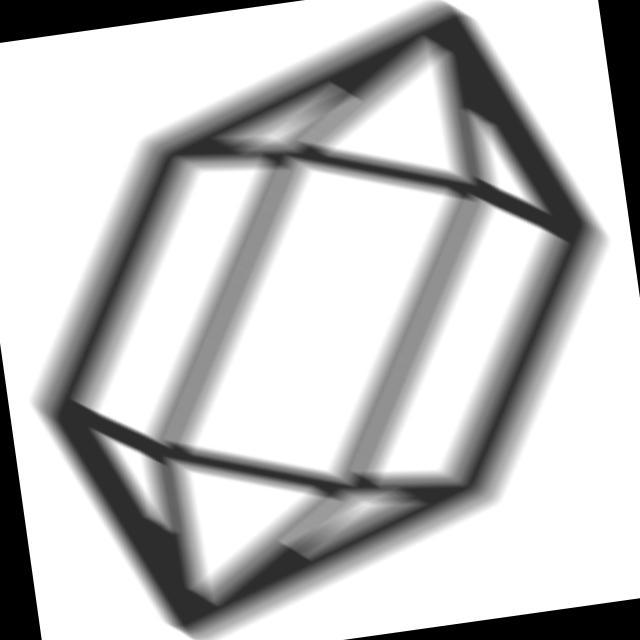crystal: (1, 1, 640, 640)
